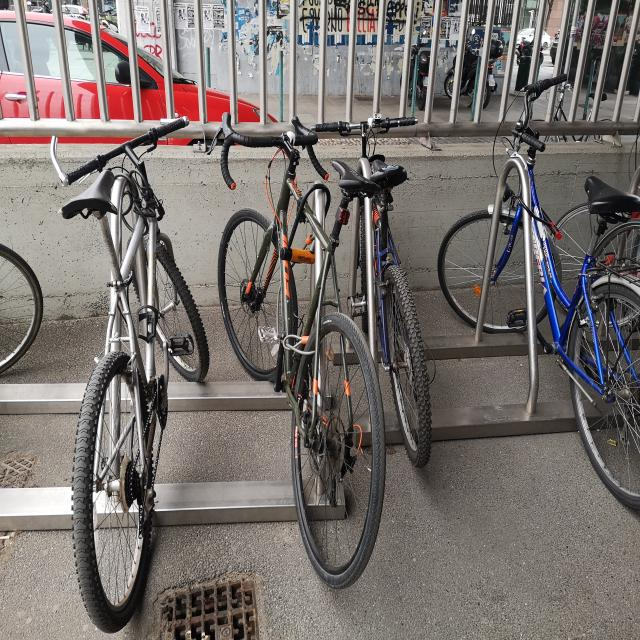Bicycle: (36, 95, 222, 627), (216, 79, 395, 611), (464, 76, 640, 537), (324, 109, 452, 481), (0, 190, 77, 394), (560, 132, 640, 290)
